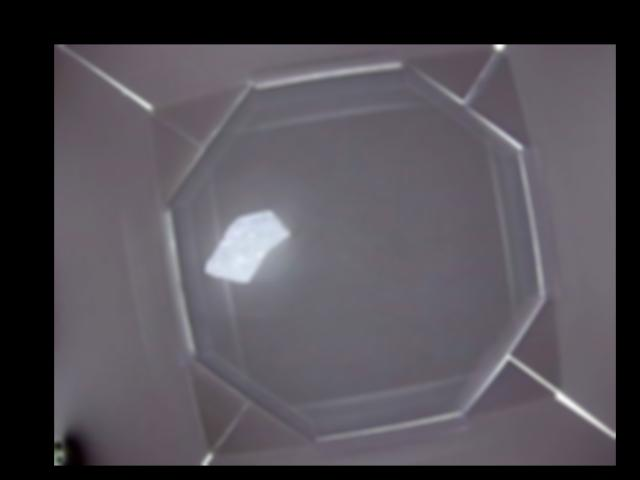China: (205, 208, 289, 283)
